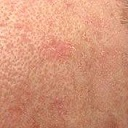Actinic: (13, 8, 84, 89)
